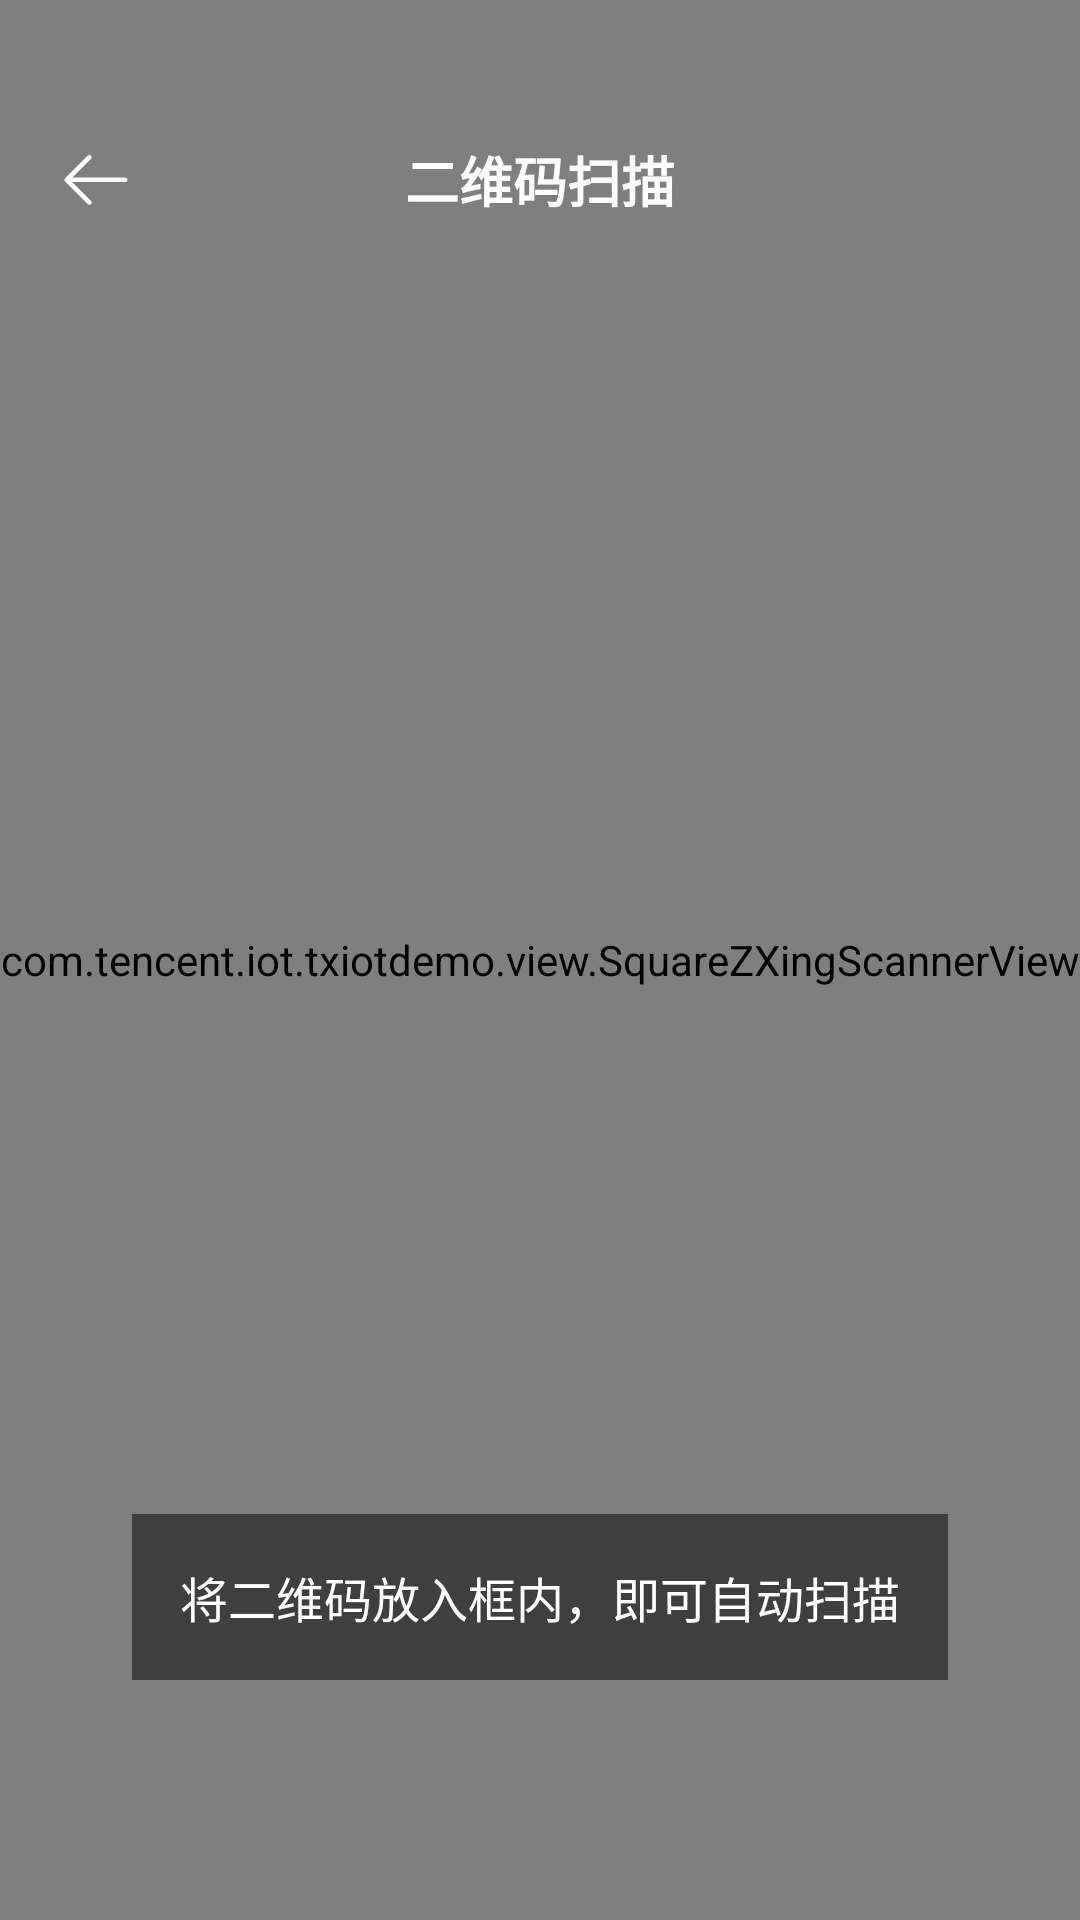

Where icons sit on this 1080 x 1920 app screen, as (x1, y1, x2, y2):
返回: (64, 155, 128, 205)
